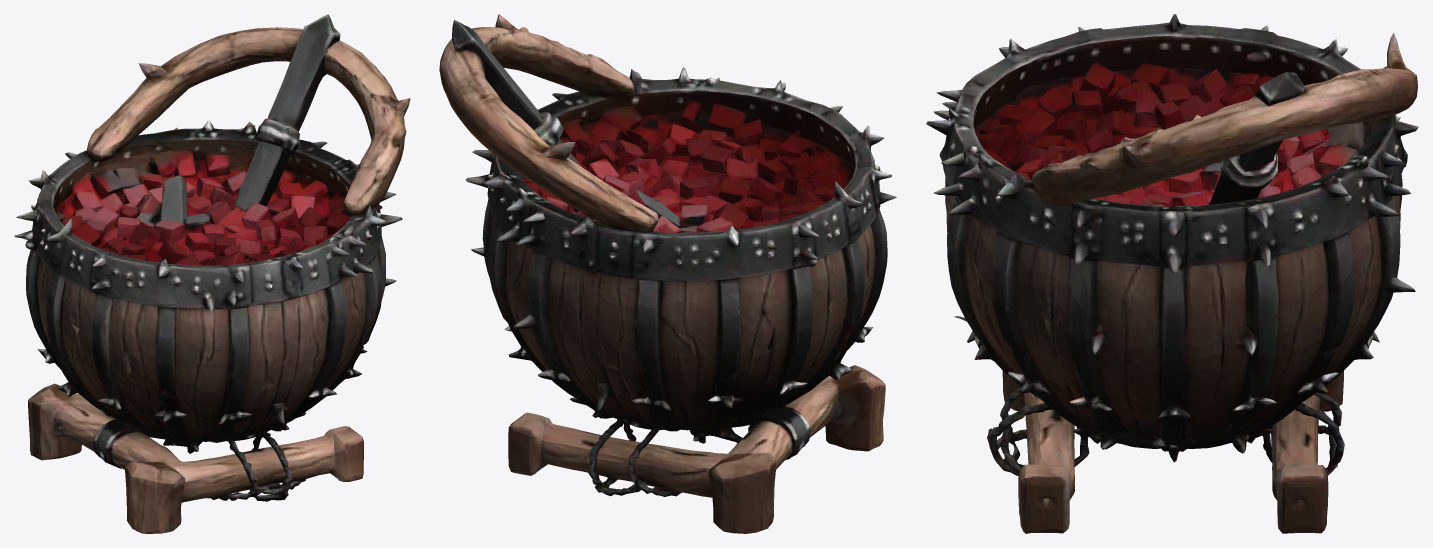
File: orc_watch_fire_01.glb
3 renders of one model, left to right at view 1: azimuth 30°, elevation 25°; view 2: azimuth 150°, elevation 25°; view 3: azimuth 270°, elevation 25°, orthographic. The views are drawn at different scales.
Visible parts, largest first — view 1: geometry_0; view 2: geometry_0; view 3: geometry_0.
Part boxes in pixels (box(x1,y1,x2,y2)): geometry_0: box(14, 14, 410, 533); geometry_0: box(439, 14, 896, 533); geometry_0: box(926, 14, 1418, 533).
Size of the model in its own units: 0.9582 by 1 by 0.8858.
1 material, 1 textured.
